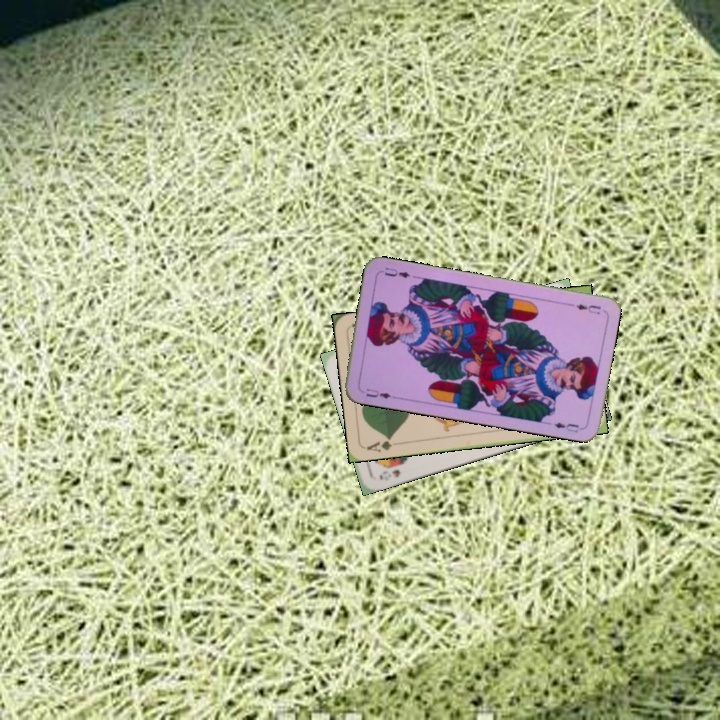EU: (362, 384, 398, 401), (572, 300, 603, 317)
GA: (363, 433, 403, 454)
SO: (375, 465, 403, 483)
